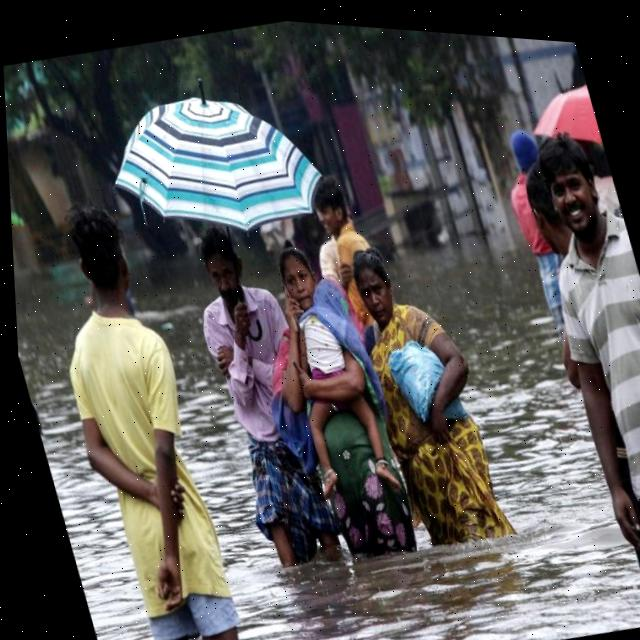civilian: (19, 185, 289, 640), (495, 120, 640, 630), (175, 217, 360, 577), (255, 219, 425, 564), (340, 234, 517, 559), (259, 257, 412, 524), (478, 110, 607, 408), (502, 158, 595, 324), (298, 168, 380, 287)
